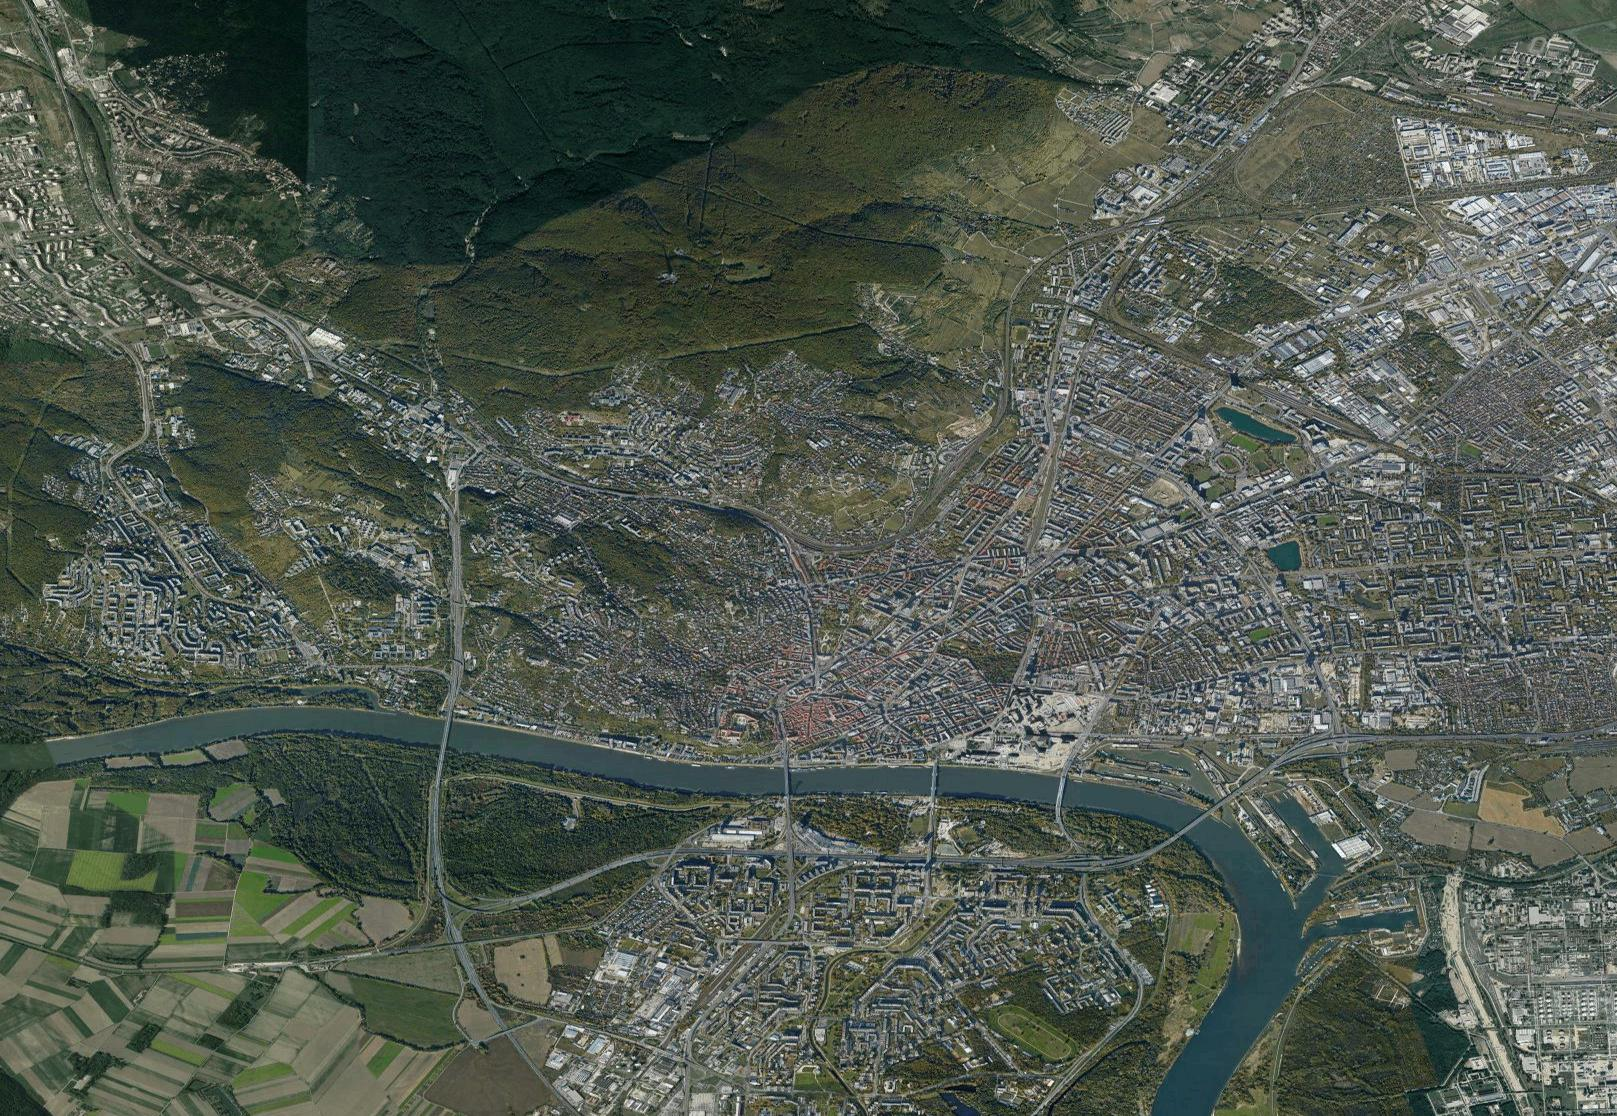bridge: (1055, 773, 1076, 815), (437, 717, 460, 753), (1183, 811, 1214, 835), (928, 763, 939, 800), (781, 764, 791, 796)
harbor: (1205, 780, 1436, 955)
motorway: (491, 1012, 580, 1116), (1218, 737, 1320, 812), (437, 898, 494, 1012), (491, 864, 609, 910), (1037, 836, 1177, 869), (611, 848, 727, 868), (444, 508, 464, 616), (433, 753, 448, 892), (882, 854, 1039, 868), (446, 618, 466, 710), (724, 853, 880, 860)
train_station: (929, 430, 982, 501), (790, 522, 842, 553)
